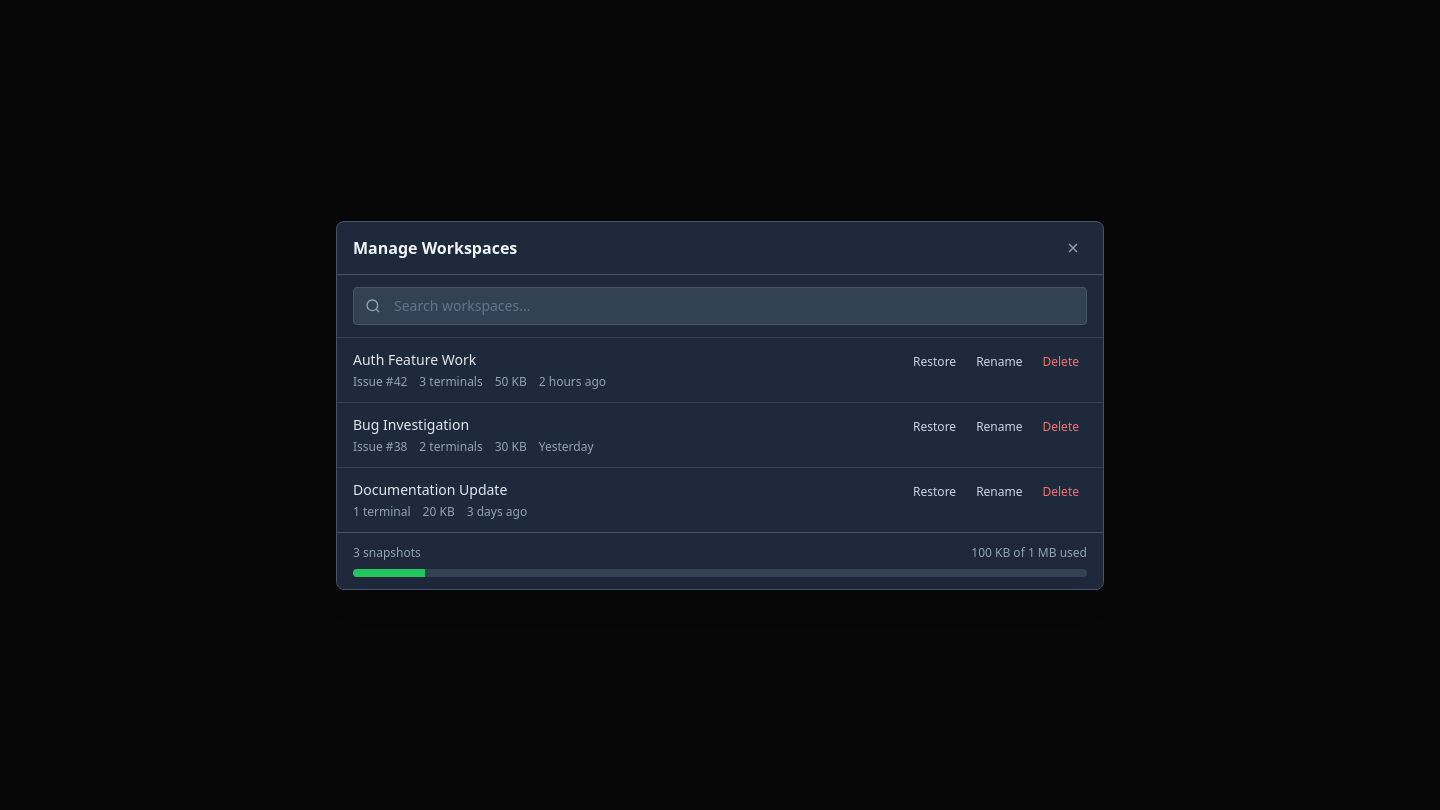
Scenario: WorkspaceManager › Actions - Rename › should cancel rename when Escape is pressed
Click the button "Rename" in the row of "Auth Feature Work": {"x": 999, "y": 362} x1=968 y1=350 x2=1030 y2=374
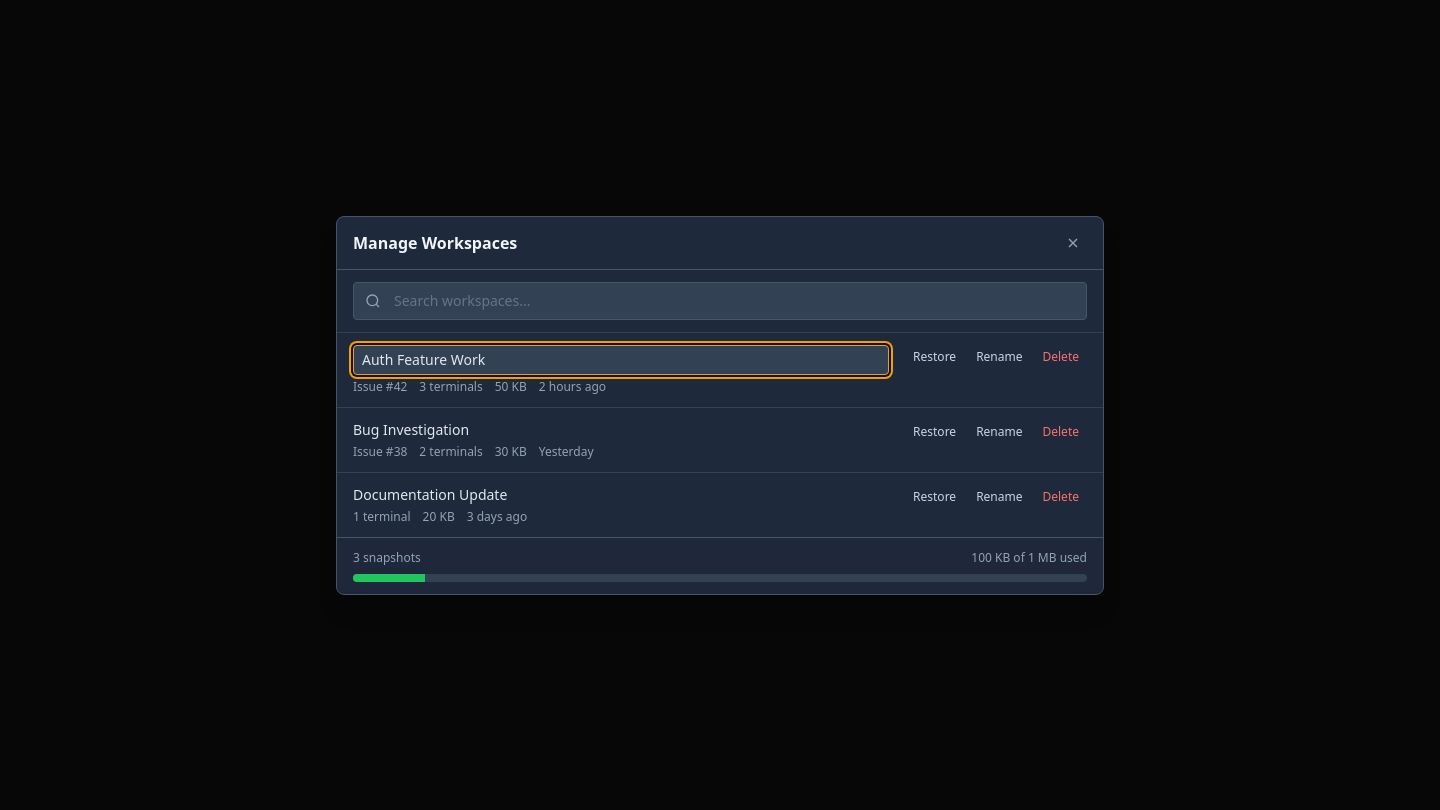
Replace the text in the field showing "Auth Feature Work" with "New Name": {"x": 621, "y": 360} x1=353 y1=344 x2=889 y2=374
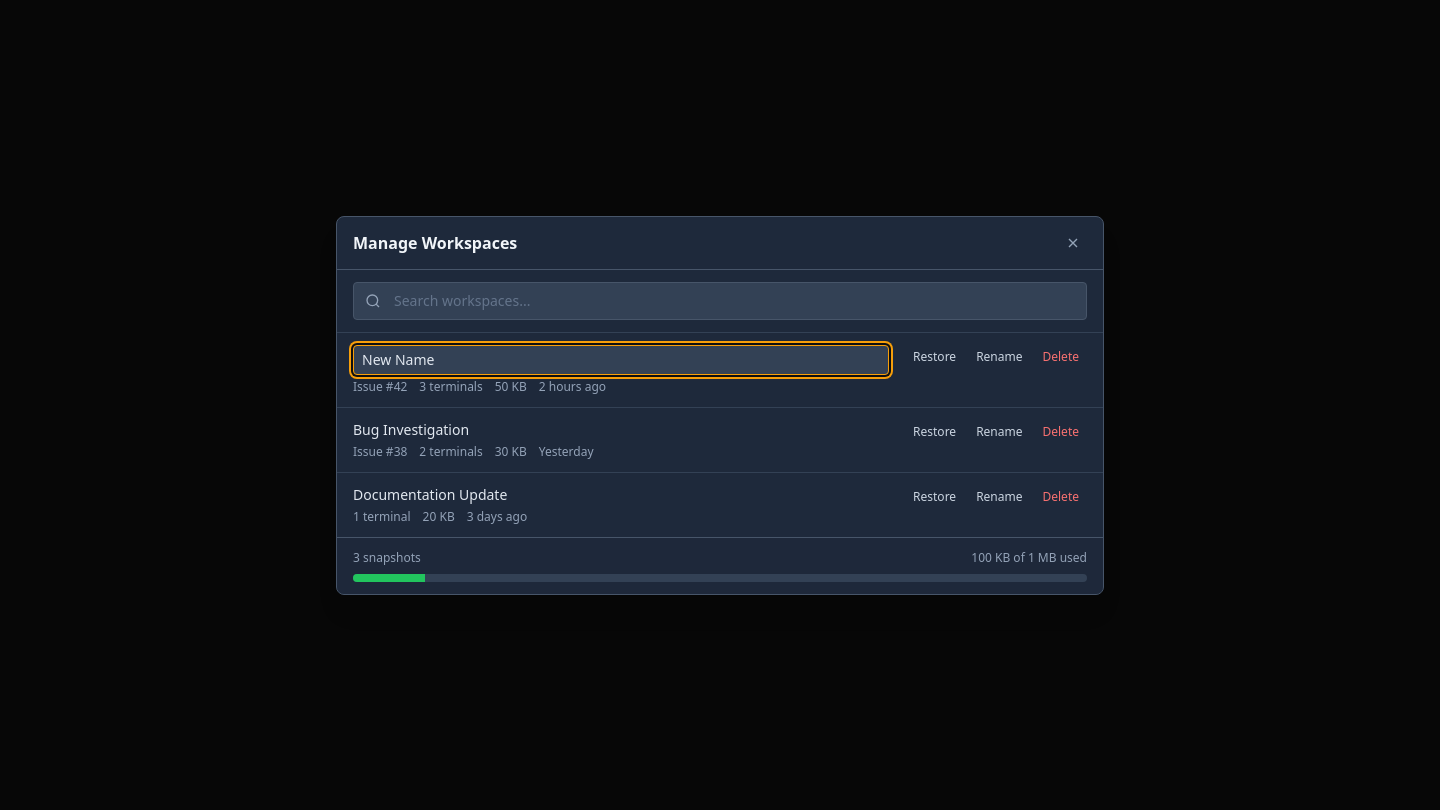
Press Escape
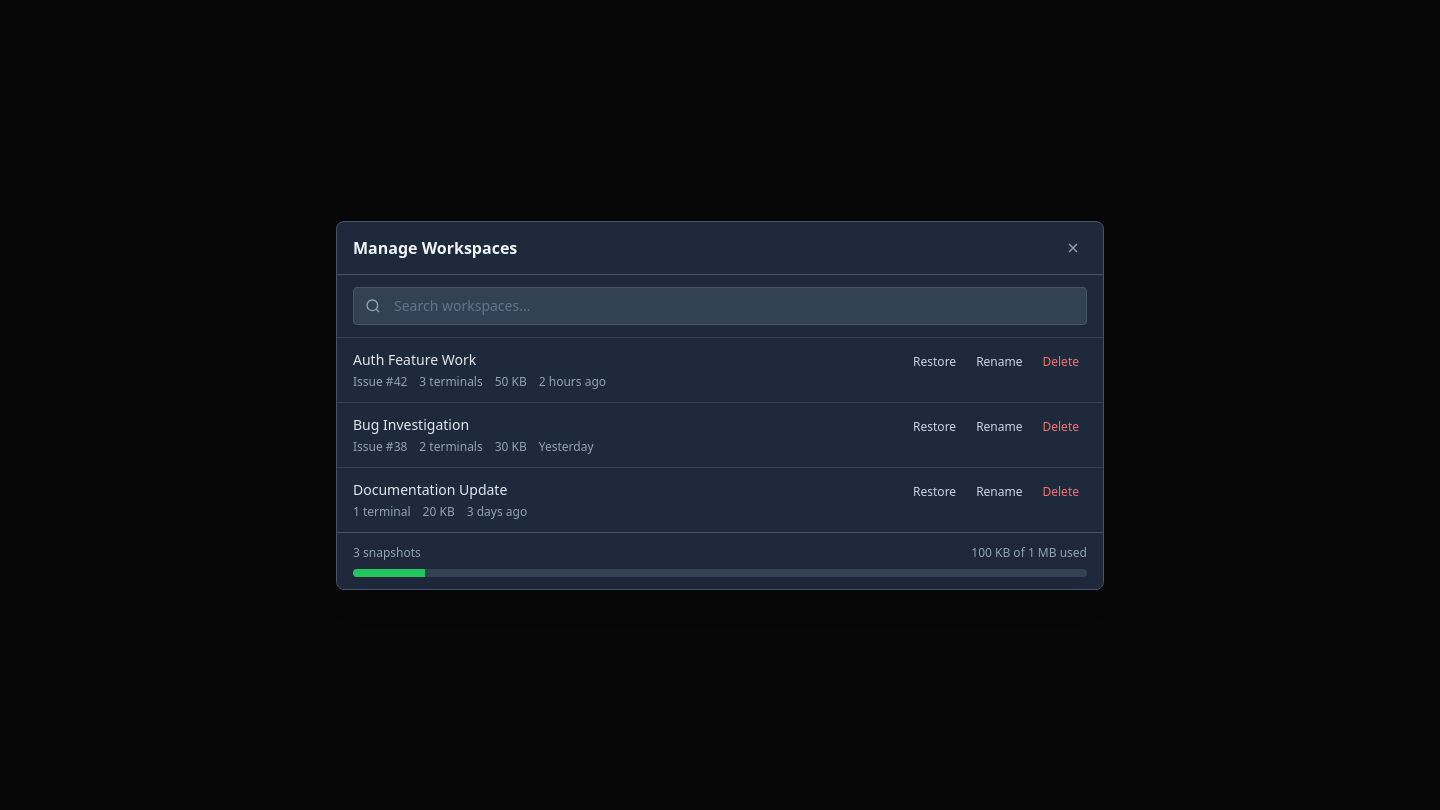
Now the text "Auth Feature Work" is shown, box x1=353 y1=350 x2=476 y2=368
